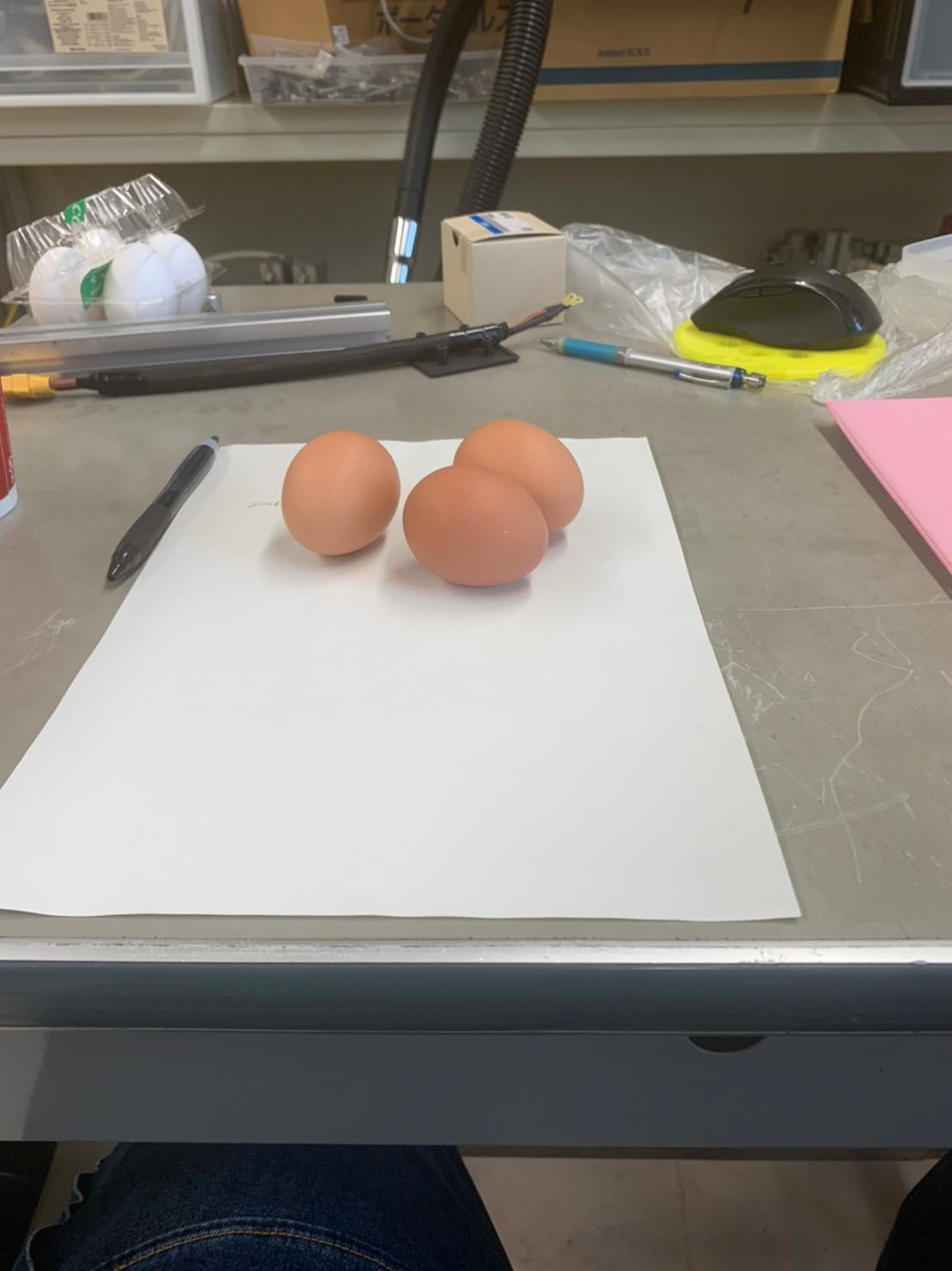egg: (391, 463, 559, 598), (433, 408, 592, 543), (281, 422, 395, 564)
